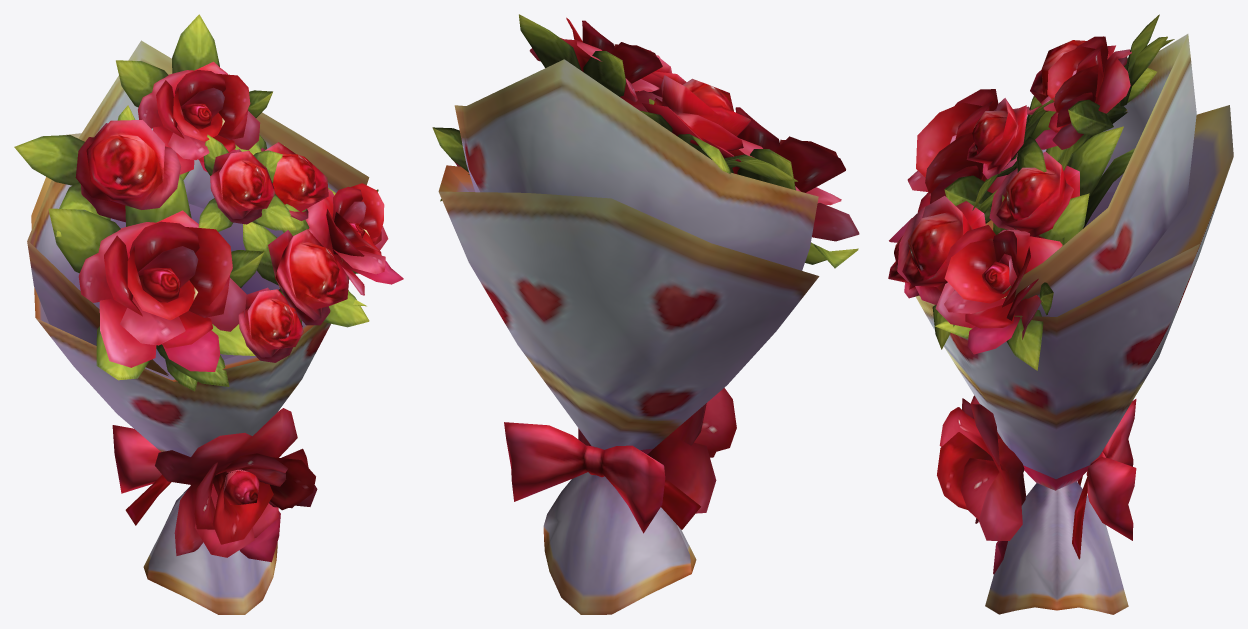
File: huasu.fbx
3 views of the same model, side by side, from view 1: azimuth 30°, elevation 25°; view 2: azimuth 150°, elevation 25°; view 3: azimuth 270°, elevation 25° (orthographic). The views are drawn at different scales.
Parts seen in each view (by area): view 1: 0001_0; view 2: 0001_0; view 3: 0001_0.
Boxes of the visible parts, x1,y1,x2,y2 form: 0001_0: [14, 14, 403, 614]; 0001_0: [432, 14, 859, 614]; 0001_0: [888, 14, 1233, 614].
Size of the model in its own units: 90.87 by 133 by 70.9.
